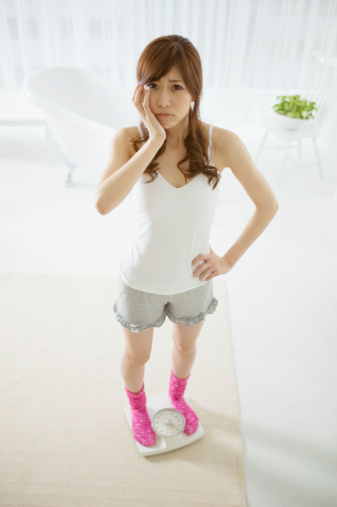em pe: (100, 28, 267, 476)
